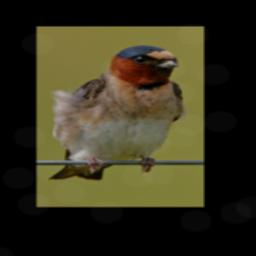Swallow: (48, 44, 188, 182)
